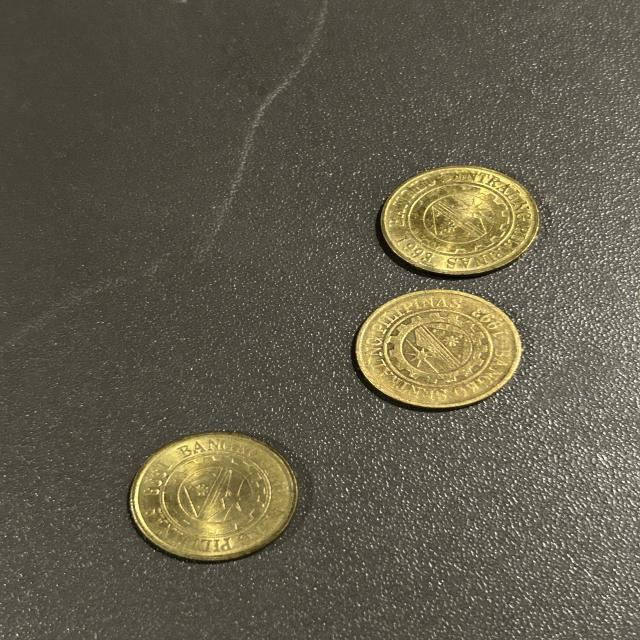25Cent_Old_Back: (148, 444, 288, 546), (377, 301, 508, 389), (396, 175, 510, 266)
